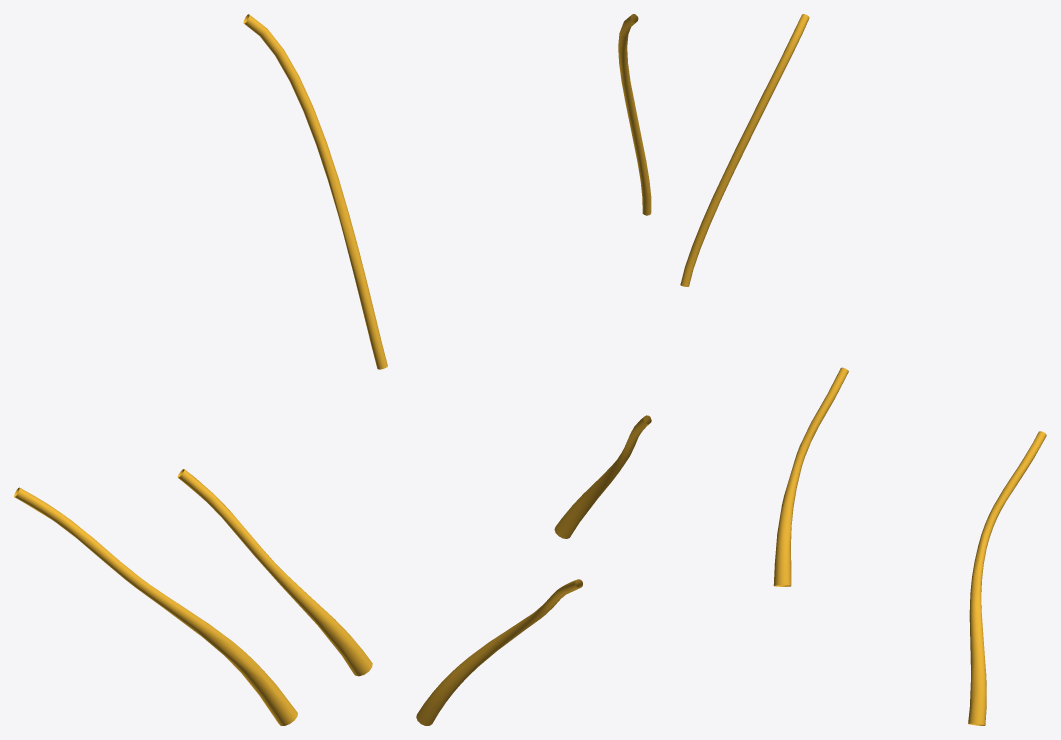
File: nervoso-anterior-root-of-posterior-femoral-cutaneous-nerve-l.glb
The picture shows the model from 3 angles, left to right: view 1: azimuth 30°, elevation 25°; view 2: azimuth 150°, elevation 25°; view 3: azimuth 270°, elevation 25°; orthographic projection. The views are drawn at different scales.
Visible parts, largest first — view 1: Anterior root of posterior femoral cutaneous nerve.l; view 2: Anterior root of posterior femoral cutaneous nerve.l; view 3: Anterior root of posterior femoral cutaneous nerve.l.
Boxes of the visible parts, x1,y1,x2,y2 form: Anterior root of posterior femoral cutaneous nerve.l: [14, 14, 387, 725]; Anterior root of posterior femoral cutaneous nerve.l: [416, 14, 651, 725]; Anterior root of posterior femoral cutaneous nerve.l: [680, 14, 1046, 725].
Bounding box in the file's own units: 0.0251 × 0.0817 × 0.0412.
